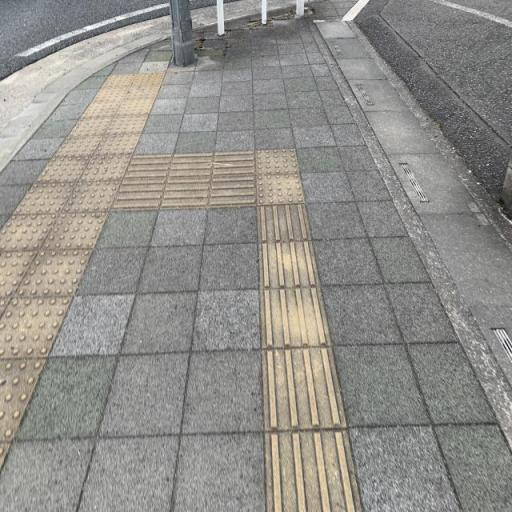dot: (255, 174, 303, 203), (254, 149, 298, 175)
line: (263, 429, 362, 511), (260, 345, 349, 433), (258, 284, 334, 352), (258, 240, 322, 292), (256, 204, 314, 243)
